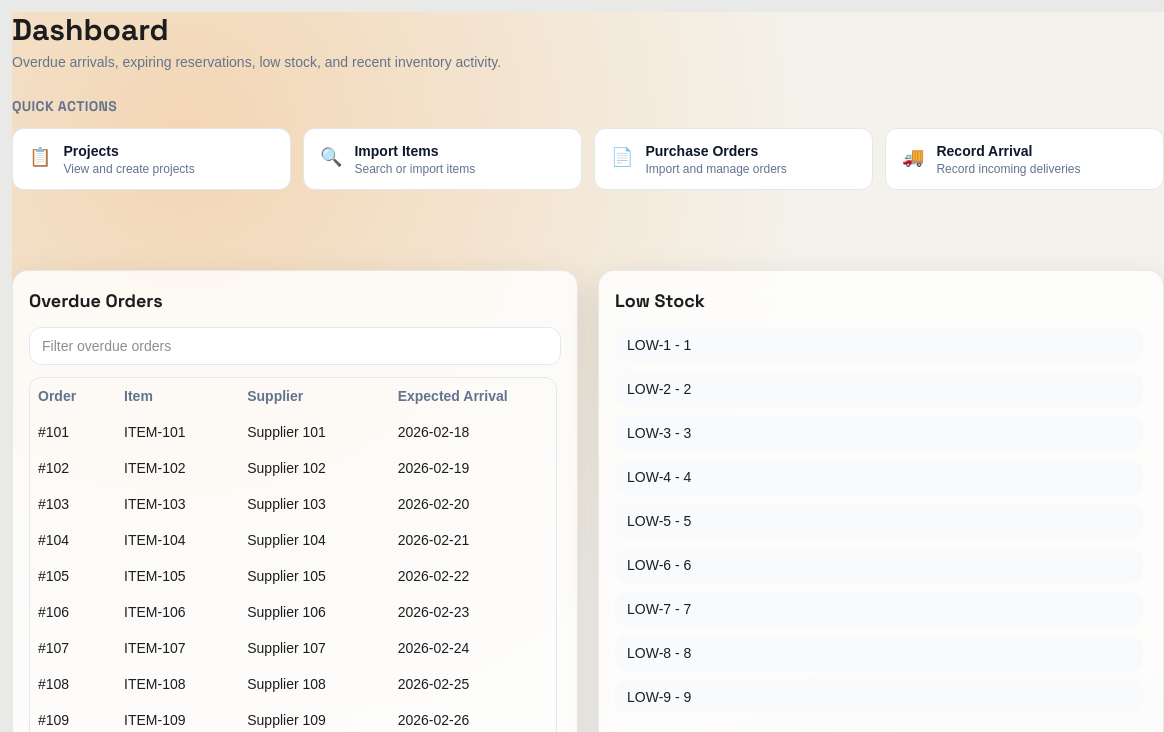
Test: DashboardPage › switches back to the compact list when filtering down to eight or fewer rows
Type "ITEM-101" into the field with placeholder "Filter overdue orders". click: (295, 346)
box: [29,327,561,365]
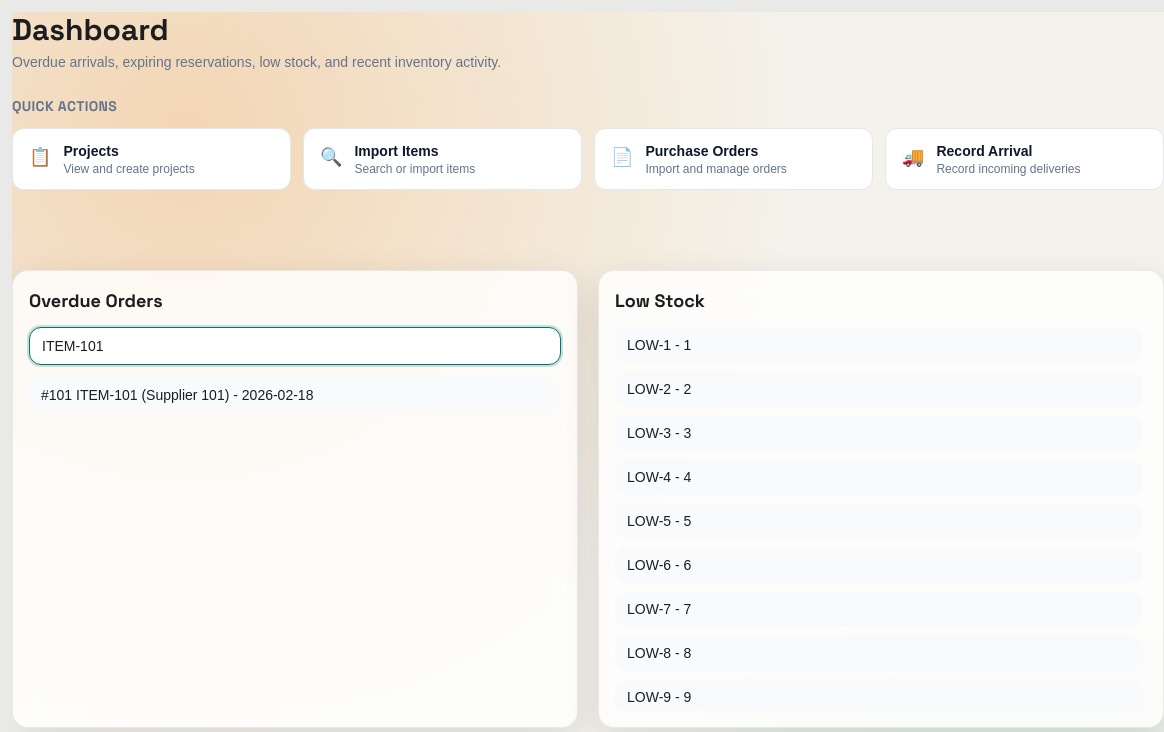
Result: the list "#101 ITEM-101 (Supplier 101) - 2026-02-18" is shown at [29,377,561,413]
